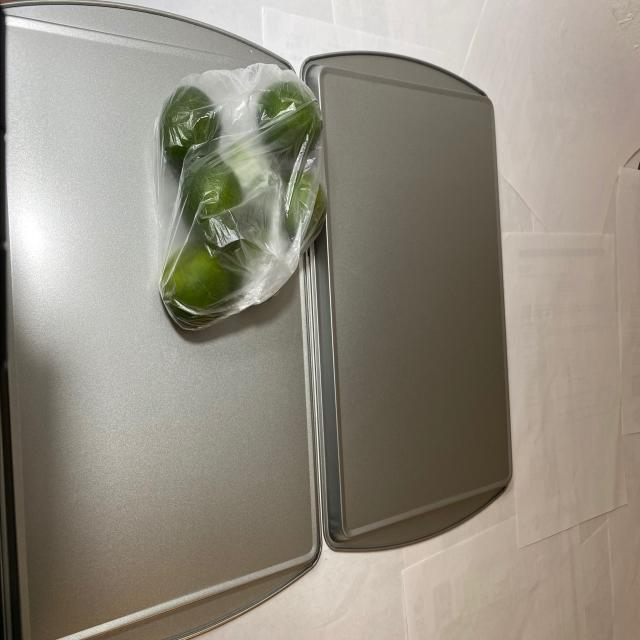lemon: (162, 78, 326, 328)
